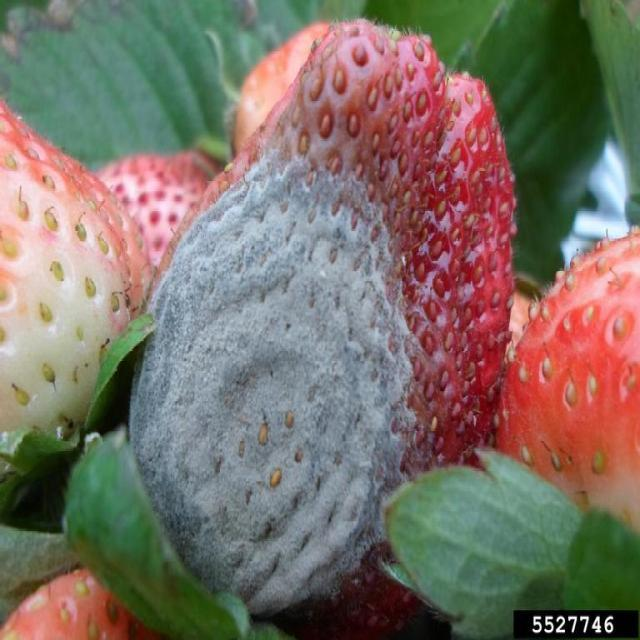Moho gris: (124, 22, 512, 628)
